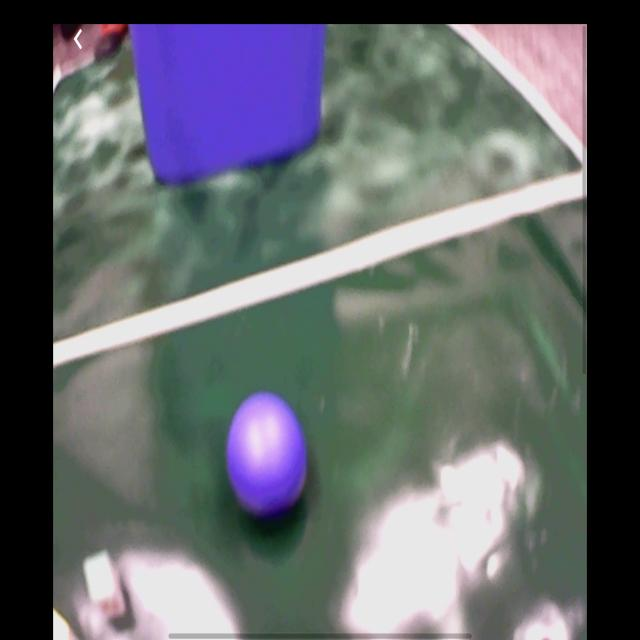ball: (227, 393, 308, 521)
